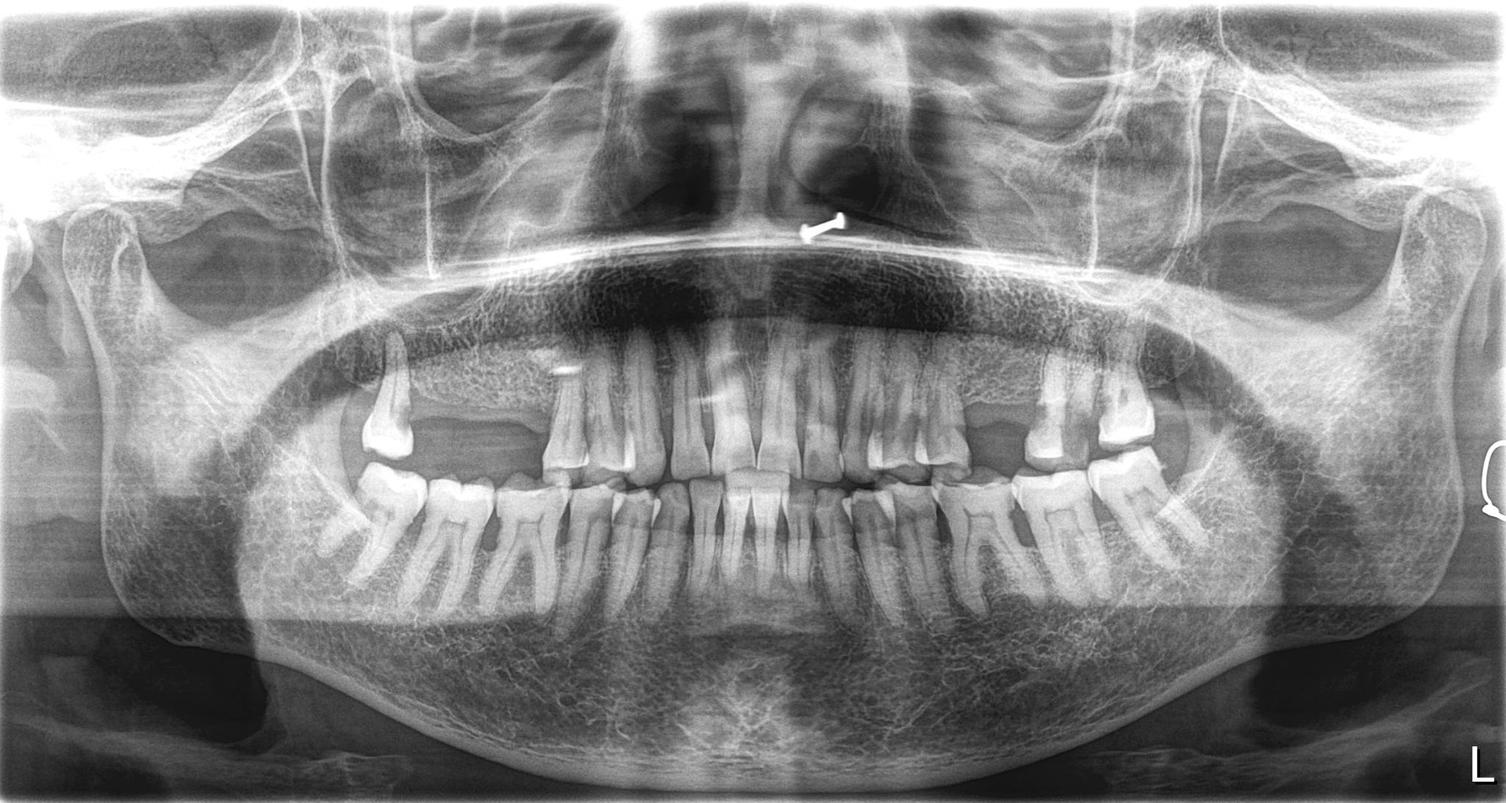Dental Caries: (1064, 417, 1091, 448)
Impacted Third Molar: (327, 460, 418, 598), (1094, 467, 1182, 570)
Missing Tooth: (965, 351, 1036, 468), (428, 362, 468, 468), (474, 362, 510, 471), (518, 366, 548, 476)
